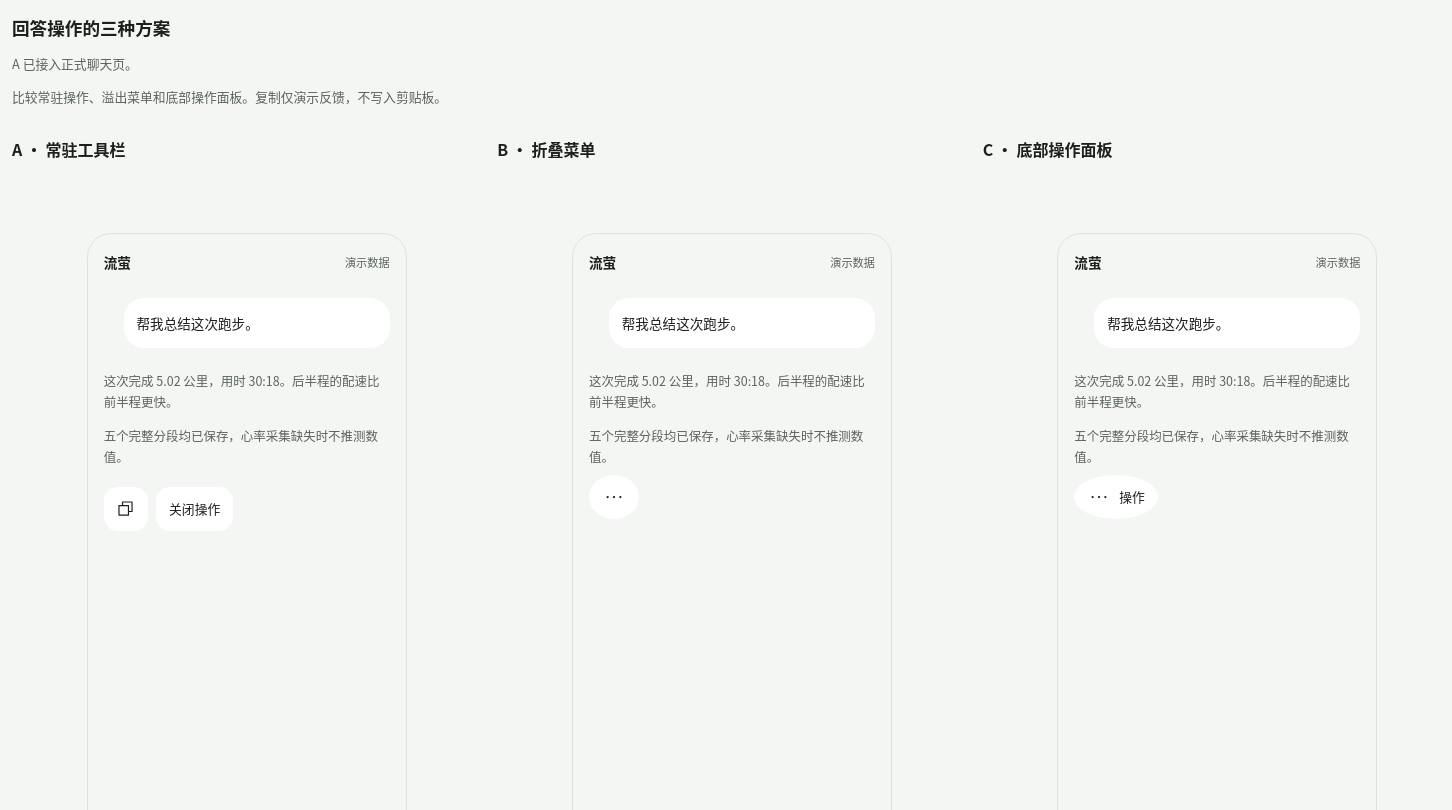
Test: 回答操作三个入口仅反馈演示复制
Click the button named "复制回答": click(126, 509) [104,487,148,531]
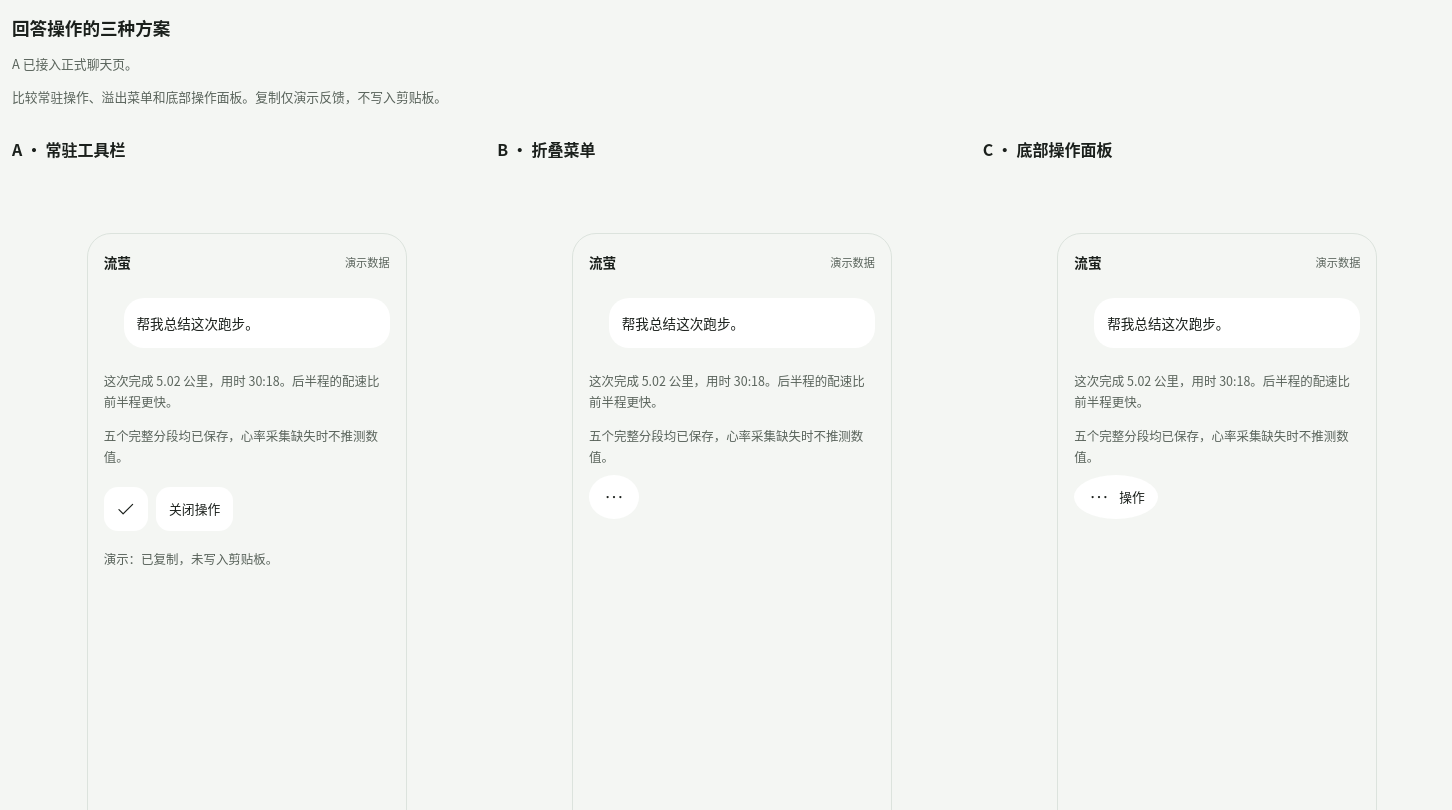
Expected: the message shows "未写入剪贴板", [104,550,278,568]
Click the button named "回答操作": click(614, 497) [589,475,639,519]
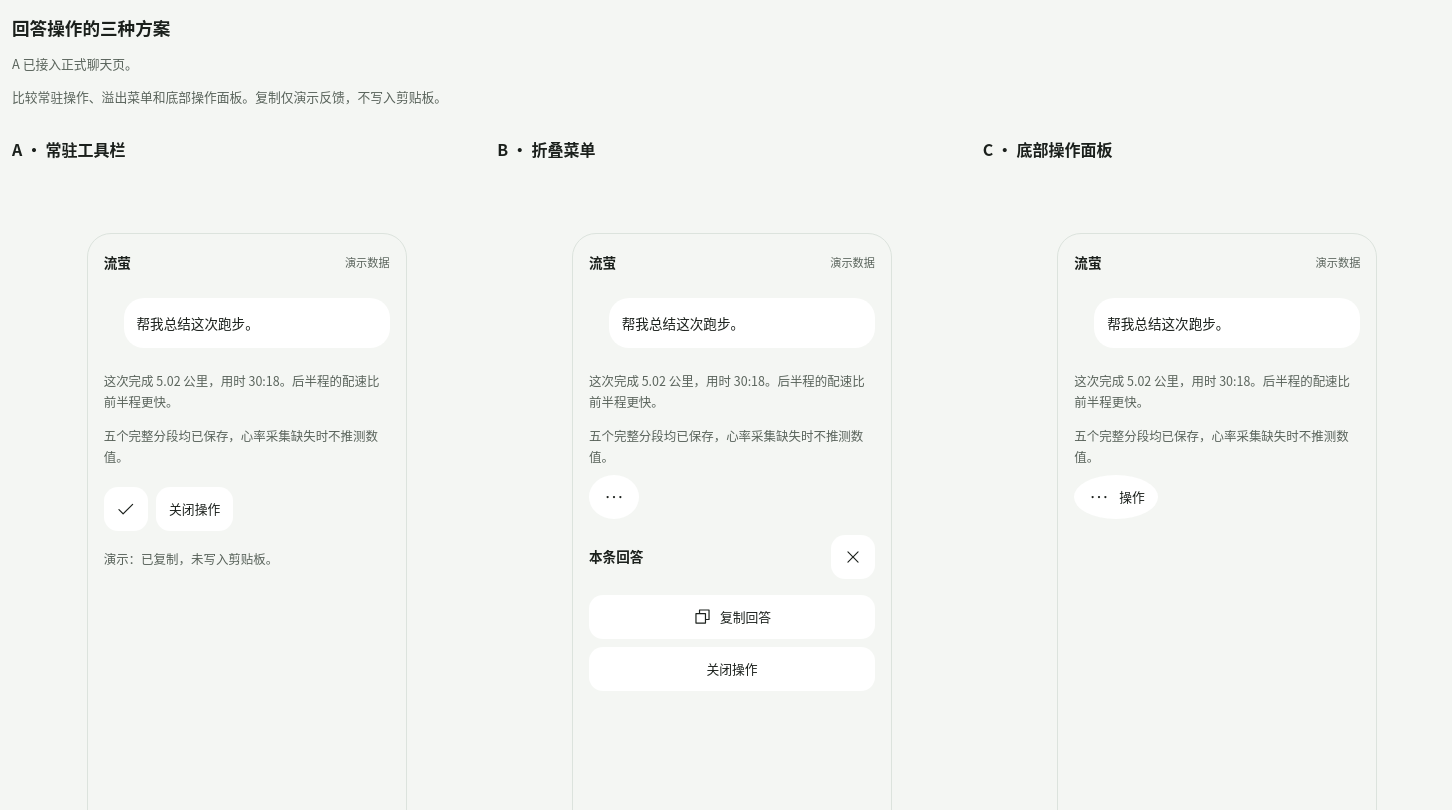
Click the button "复制回答": click(732, 617) [589,595,875,639]
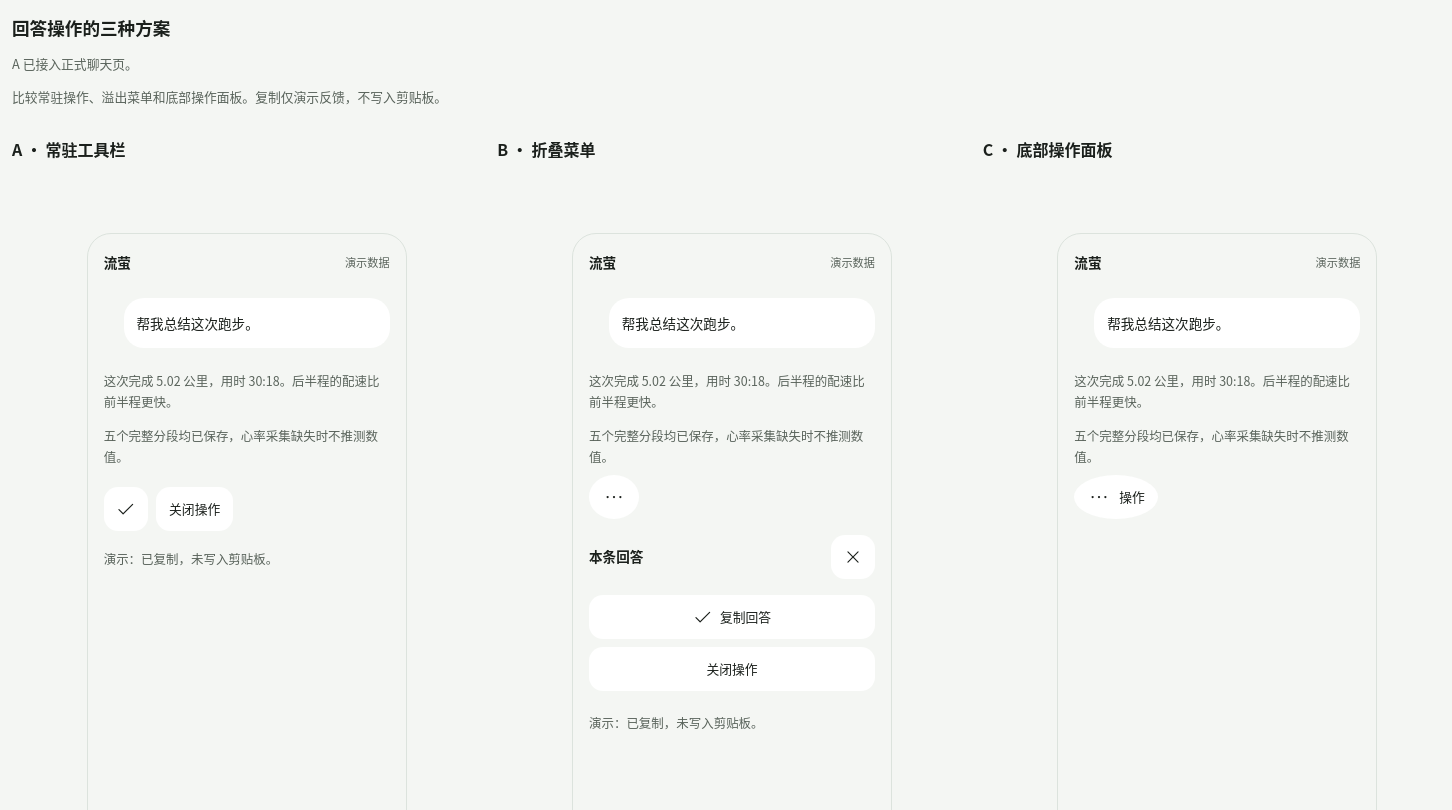
Expected: the message "演示：已复制，未写入剪贴板。" below "本条回答" is shown, [589,714,764,732]
Click the button with aria-label "回答操作": click(1116, 497) [1074,475,1158,519]
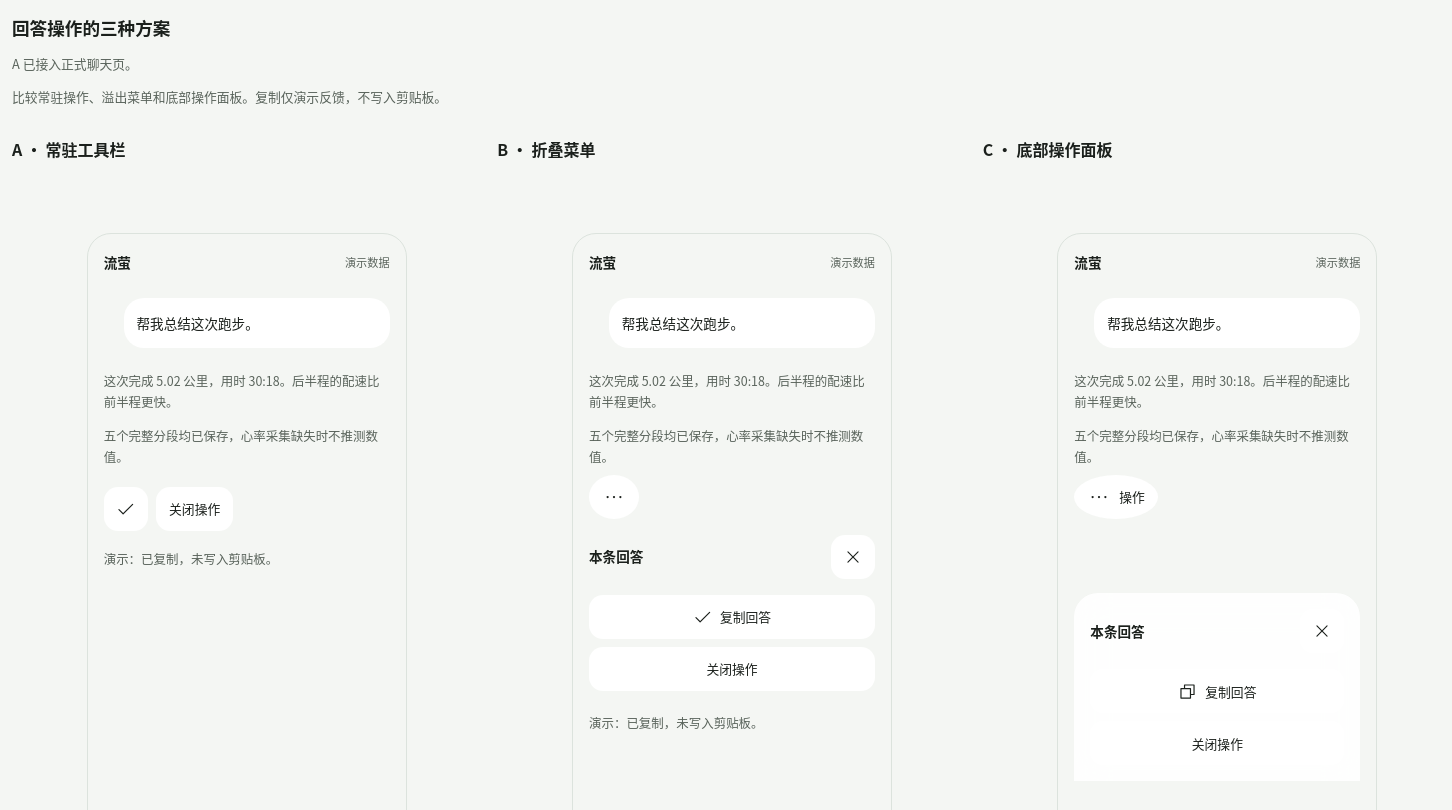
Click the 2nd button "复制回答": click(1217, 691) [1090,669,1344,713]
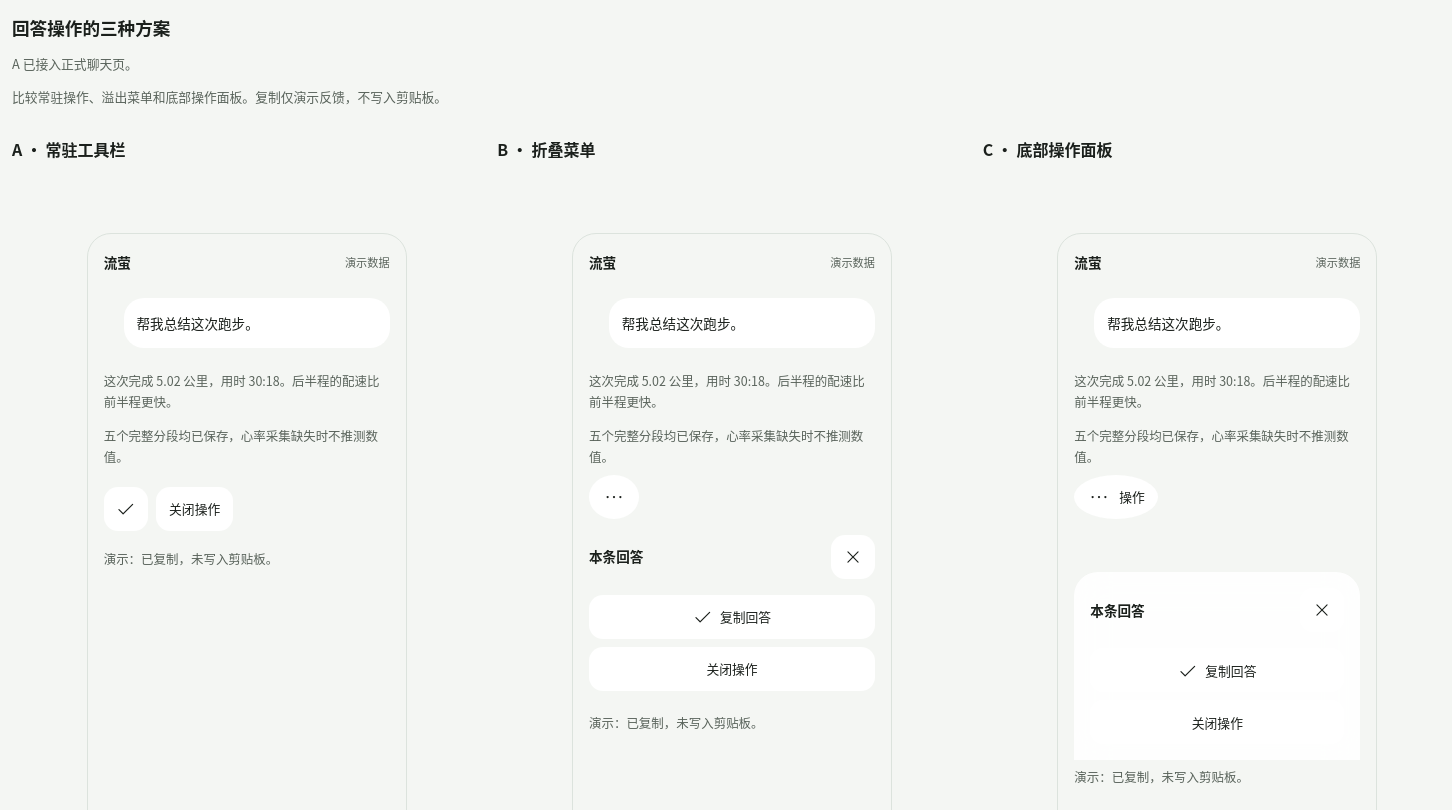
Expected: the 3rd message "演示：已复制，未写入剪贴板。" is shown, [1074,768,1249,786]
